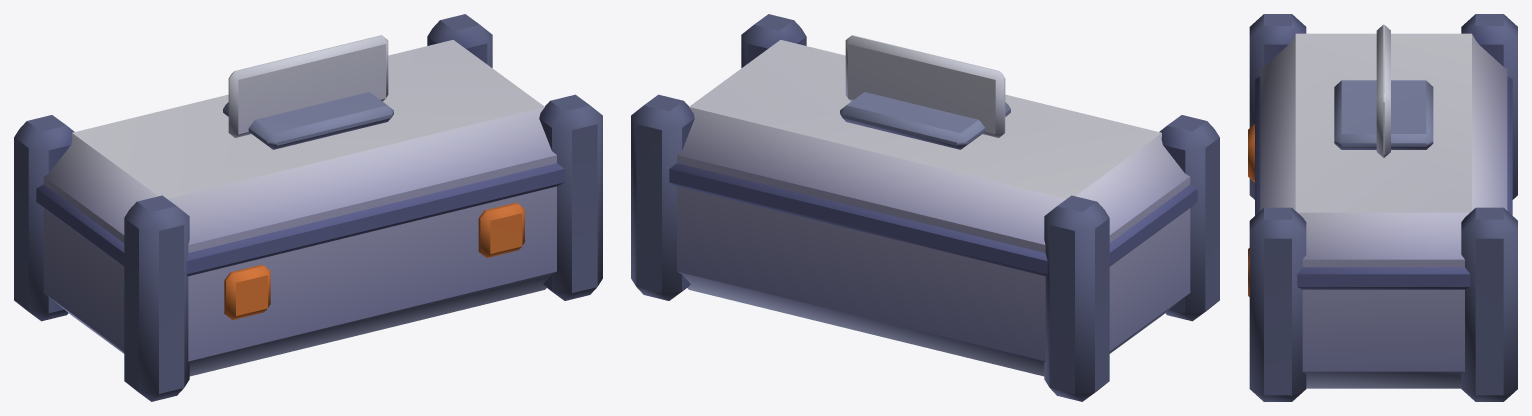
The model's file is hub_prop_crate_b.glb.
The picture shows the model from 3 angles, left to right: view 1: azimuth 30°, elevation 25°; view 2: azimuth 150°, elevation 25°; view 3: azimuth 270°, elevation 25°; orthographic projection. The views are drawn at different scales.
Parts seen in each view (by area): view 1: hub_prop_crate_b; view 2: hub_prop_crate_b; view 3: hub_prop_crate_b.
Part boxes in pixels (<box>): hub_prop_crate_b: <box>14,14,602,401</box>; hub_prop_crate_b: <box>631,14,1219,401</box>; hub_prop_crate_b: <box>1248,14,1517,401</box>.
Bounding box in the file's own units: 1.46 × 0.75 × 0.765.
